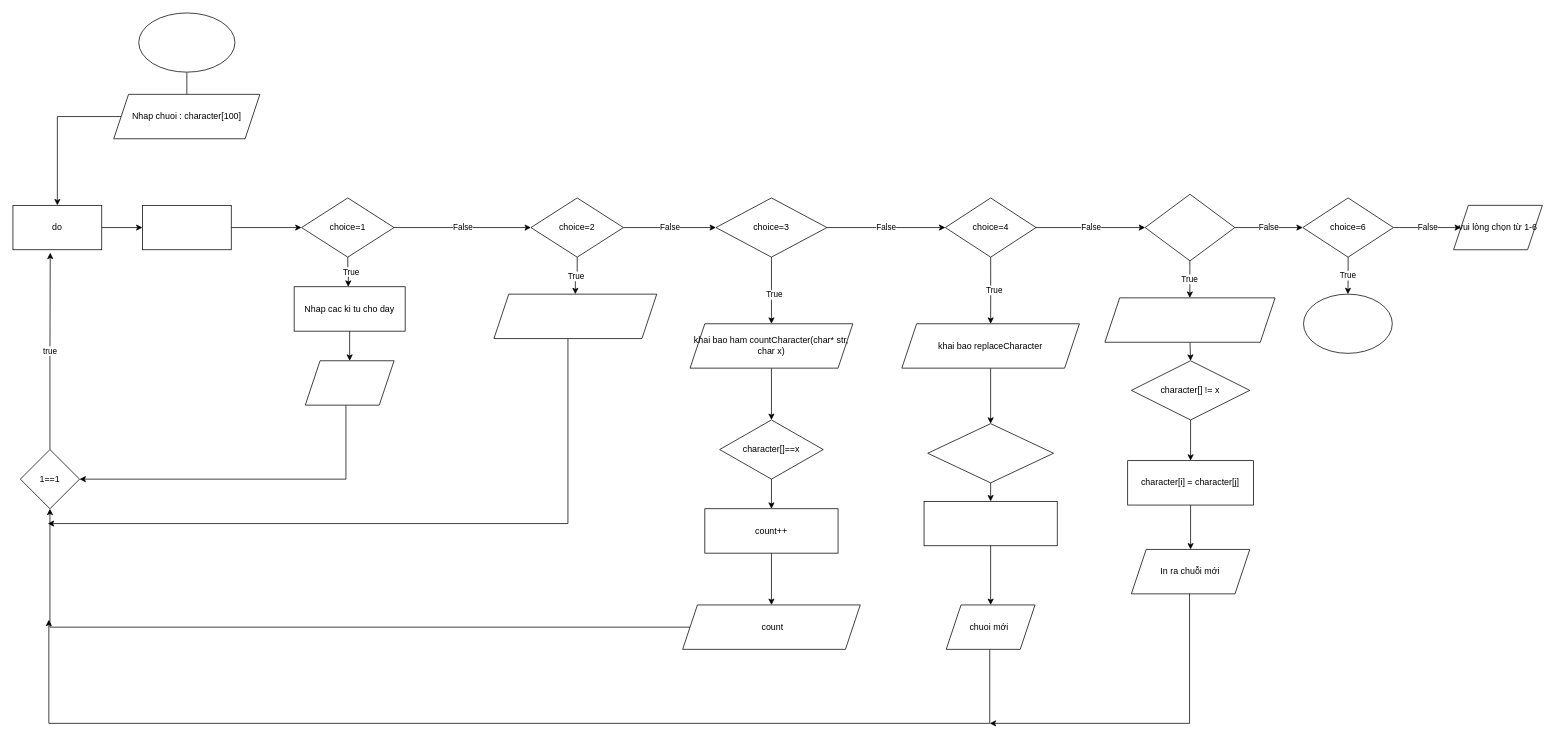
Some shapes in this 1555 by 742 pixel diagram are drawn without their labels. The shapes that lost their labels are listed below. From the top down, each one's centre as x and y in pixels, then its label:
the point at 186,42: Start
the point at 186,227: choice
the point at 1189,227: choice=5
the point at 575,316: in ra nội dung chuỗi
the point at 1189,319: Khai bao removeCharacter j
the point at 1347,323: End
the point at 349,382: In chuoi
the point at 990,453: character[]==m
the point at 990,523: character[]=n
